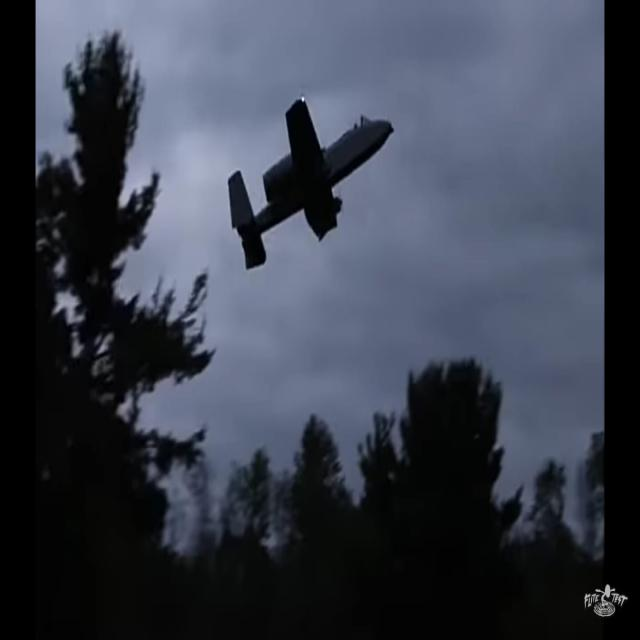iha: (227, 94, 394, 274)
